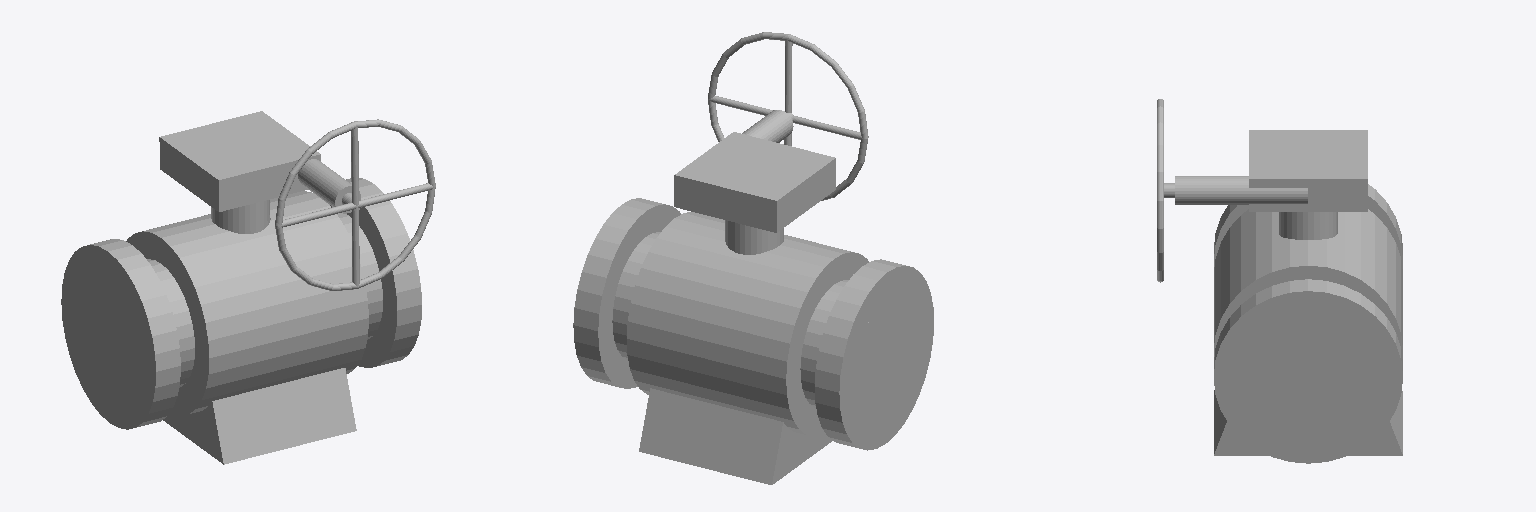
The picture shows the model from 3 angles: view 1: azimuth 30°, elevation 25°; view 2: azimuth 150°, elevation 25°; view 3: azimuth 270°, elevation 25°; orthographic projection.
Parts seen in each view (by area): view 1: /20-2000VF_Mesh; view 2: /20-2000VF_Mesh; view 3: /20-2000VF_Mesh.
Part boxes in pixels (left/top/right/bottom): /20-2000VF_Mesh: left=61, top=111, right=435, bottom=464; /20-2000VF_Mesh: left=573, top=32, right=933, bottom=484; /20-2000VF_Mesh: left=1157, top=99, right=1402, bottom=463.
Bounding box in the file's own units: 1.04 × 1.26 × 0.833.